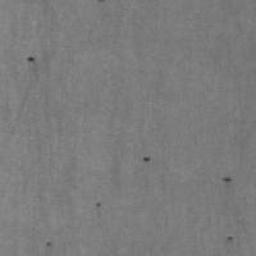Inclusion: (26, 55, 38, 84), (220, 175, 233, 188), (142, 156, 151, 164), (95, 201, 102, 209)
